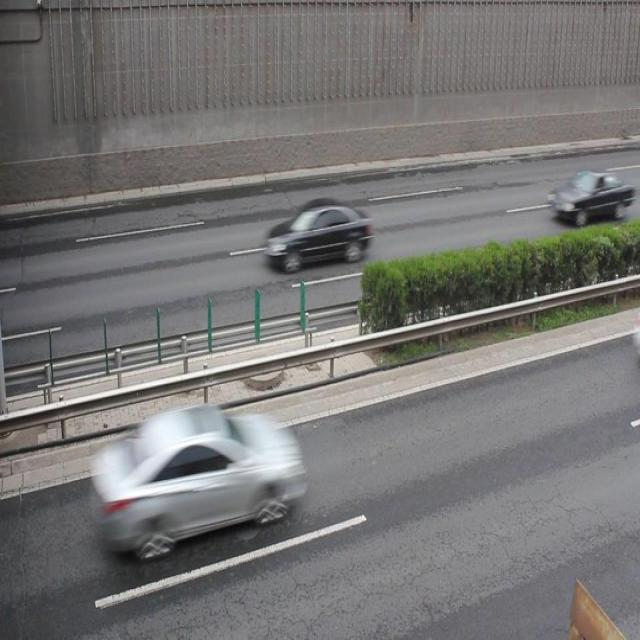car: (96, 409, 300, 558), (264, 201, 369, 270), (545, 169, 626, 224)
